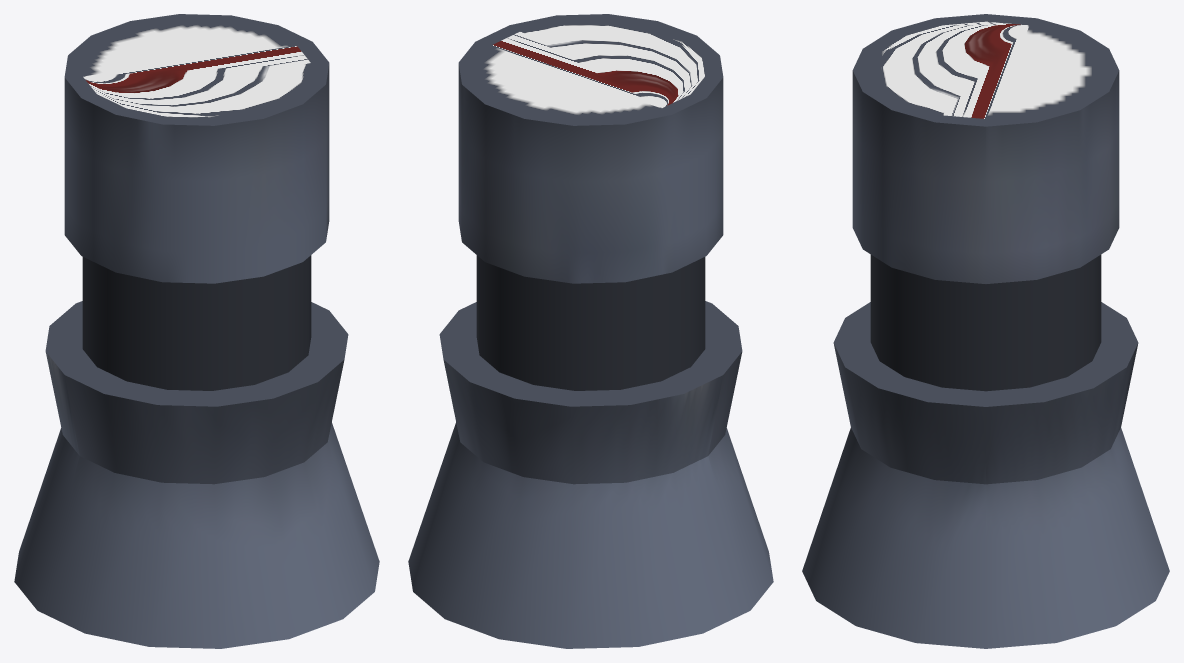
Rendered from Platform_Rocket.fbx.
3 views of the same model, side by side, from view 1: azimuth 30°, elevation 25°; view 2: azimuth 150°, elevation 25°; view 3: azimuth 270°, elevation 25° (orthographic).
Parts seen in each view (by area): view 1: Sphere.004; view 2: Sphere.004; view 3: Sphere.004.
Part boxes in pixels (x1,y1,x2,y2): Sphere.004: [14, 14, 379, 648]; Sphere.004: [408, 14, 773, 648]; Sphere.004: [802, 14, 1169, 648].
Size of the model in its own units: 43.26 by 65 by 43.26.
